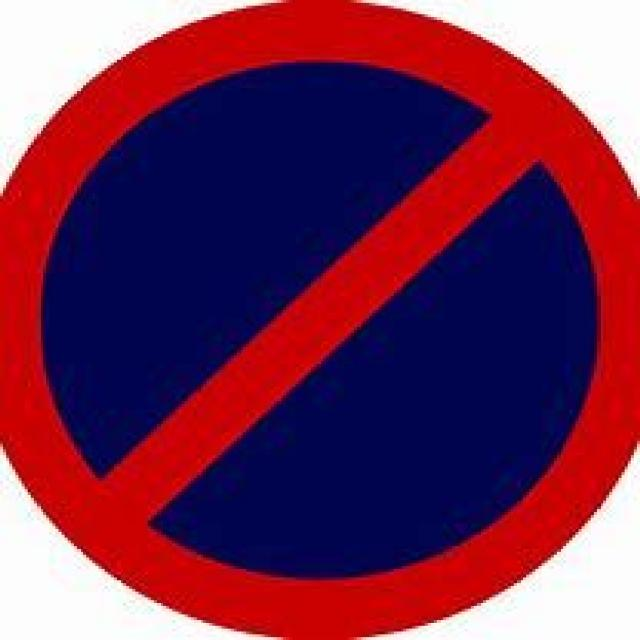NO_PARKING: (0, 0, 637, 637)
